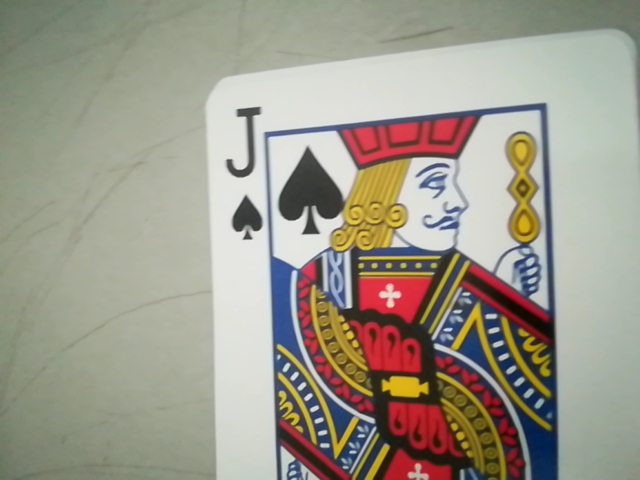ht j: (211, 105, 279, 246)
